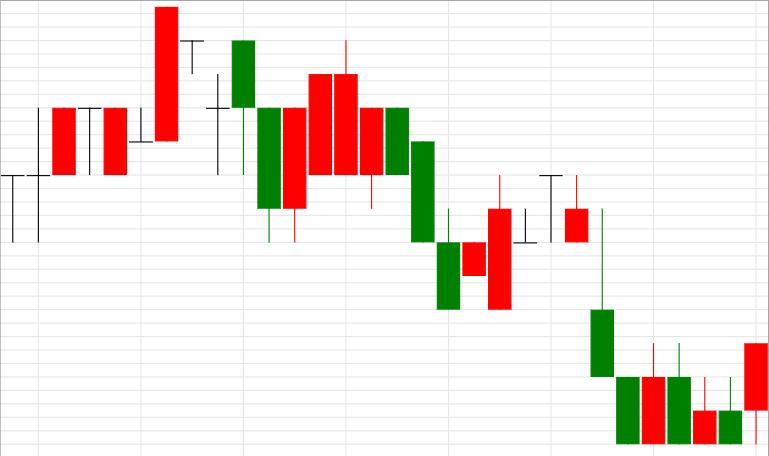bullish_engulfing_rise: (539, 174, 666, 444)
